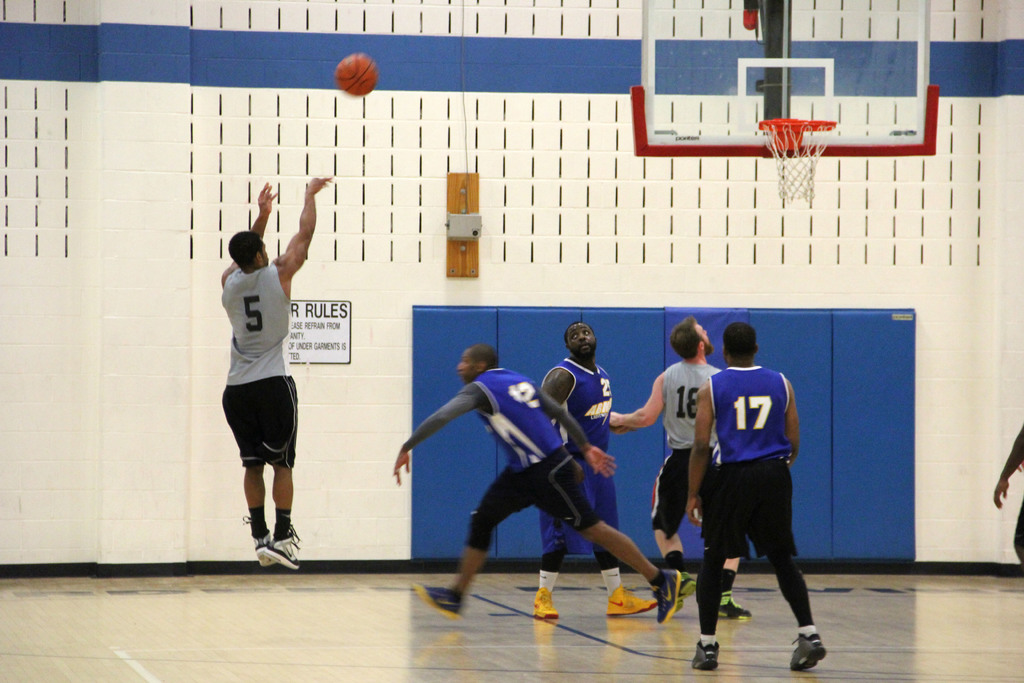Ball: (333, 53, 380, 97)
